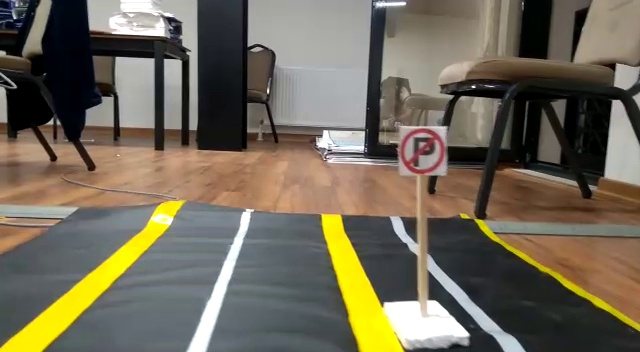park_yapilmaz: (397, 126, 448, 176)
